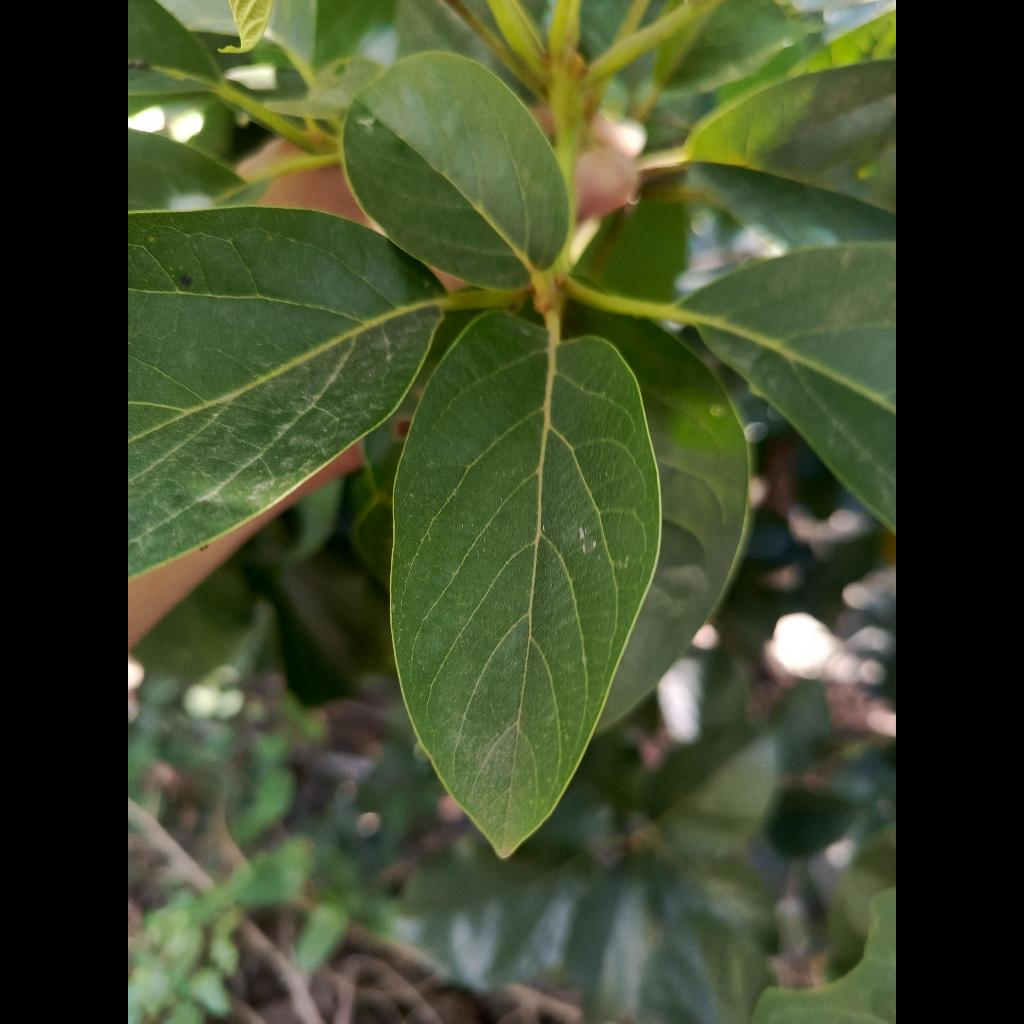Healthy: (391, 314, 660, 855), (343, 51, 569, 288)
